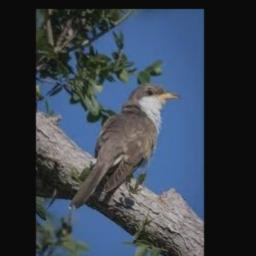Cuckoo: (68, 84, 180, 209)
